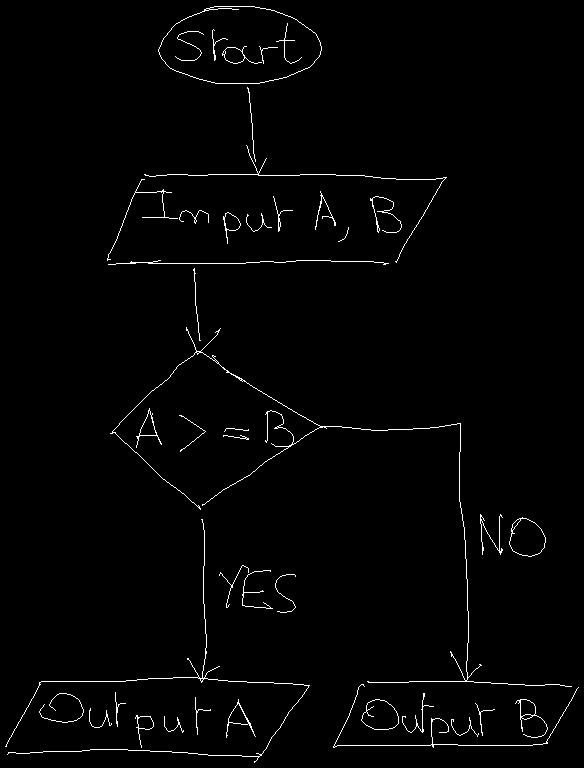arrow: (322, 423, 481, 681), (187, 519, 219, 682), (186, 268, 220, 354), (246, 87, 266, 174)
data: (107, 174, 446, 264), (5, 677, 309, 762), (333, 681, 578, 747)
decision: (110, 351, 322, 509)
terminator: (158, 6, 321, 83)
text: (136, 189, 401, 243), (39, 692, 255, 747), (361, 693, 547, 747), (136, 408, 293, 451), (175, 23, 301, 63), (219, 565, 295, 612), (480, 514, 545, 556)
